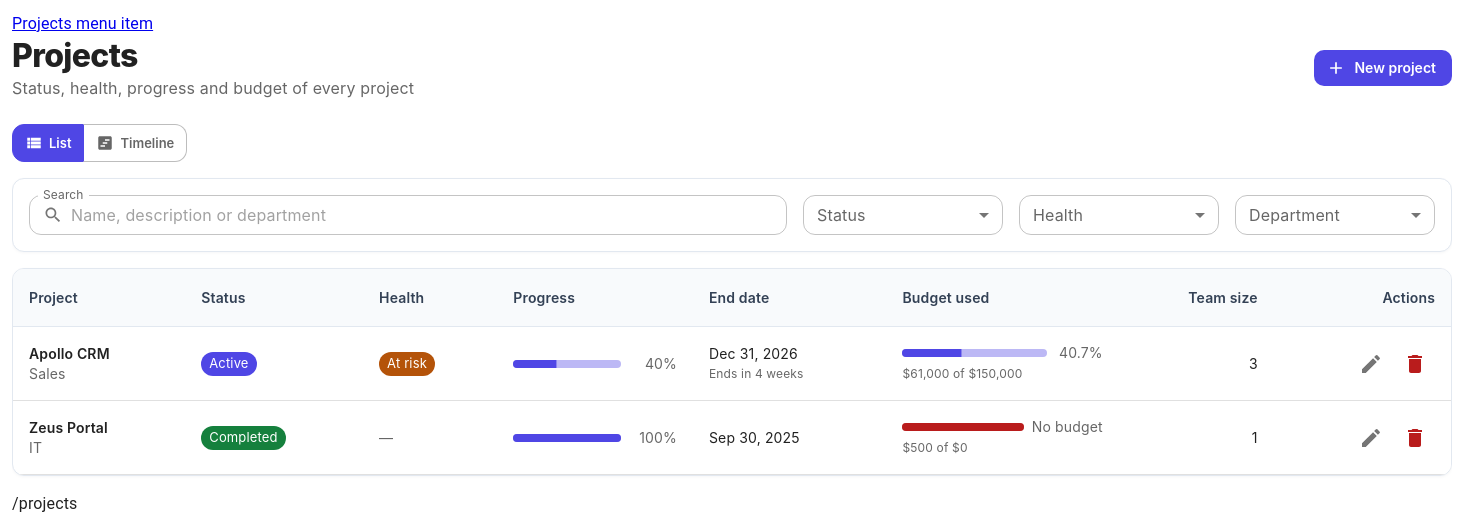
Test: ProjectsPage › shows why a project is at risk in a tooltip
The image size is (1464, 529).
Hover over the text "At risk" at [407, 363], box [387,355,427,371]
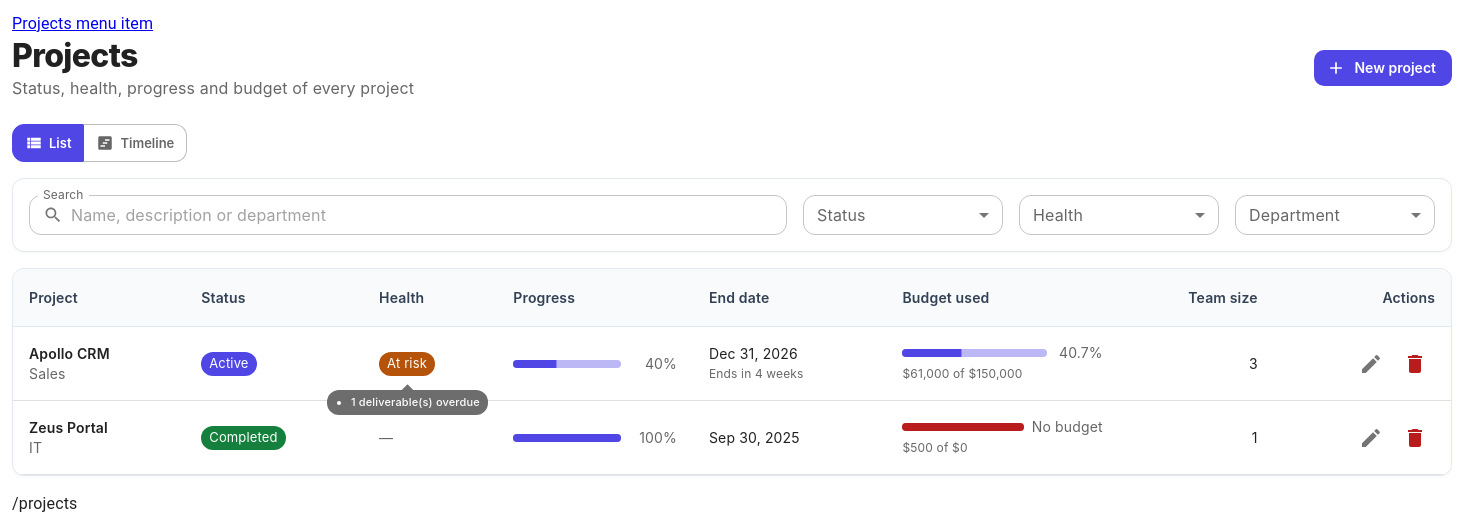
Check: the tooltip reads "1 deliverable(s) overdue", box [351,395,480,409]
